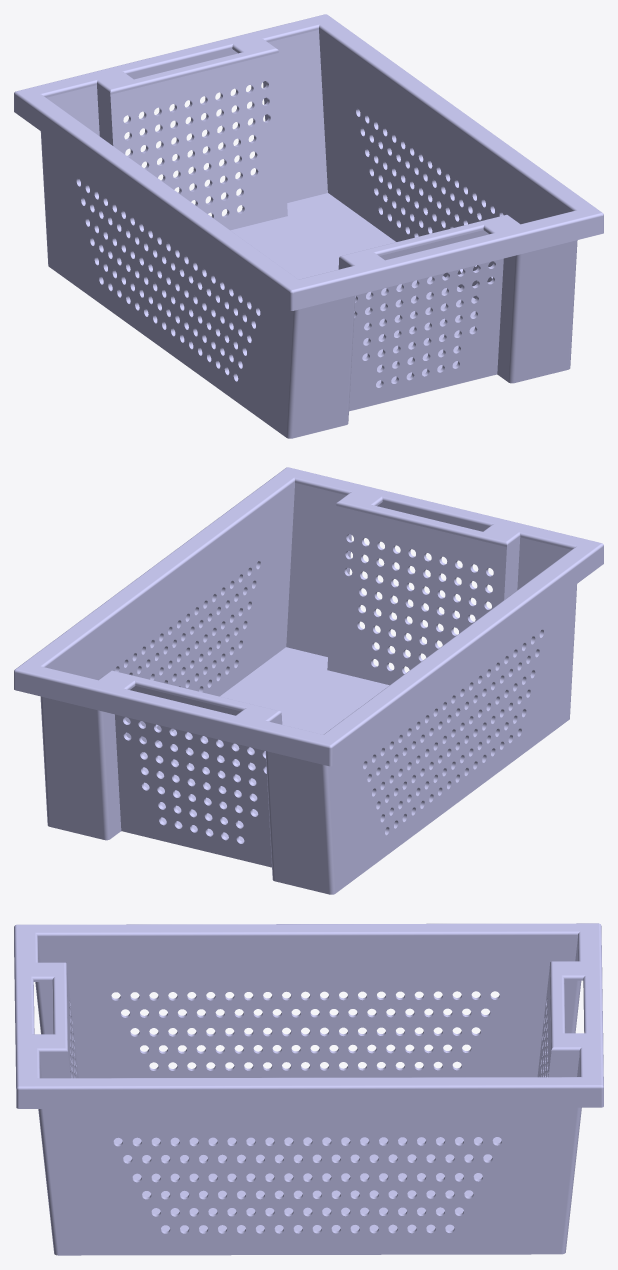
File: Bac.fbx
3 views of the same model, one above another, from view 1: azimuth 30°, elevation 25°; view 2: azimuth 150°, elevation 25°; view 3: azimuth 270°, elevation 25° (orthographic). The views are drawn at different scales.
Visible parts, largest first — view 1: bacs; view 2: bacs; view 3: bacs.
Part boxes in pixels (<box>): bacs: <box>14,14,603,438</box>; bacs: <box>14,467,603,894</box>; bacs: <box>14,923,603,1255</box>.
Size of what is drawn, in the model's own units: 41.4 by 20.6 by 62.26.
